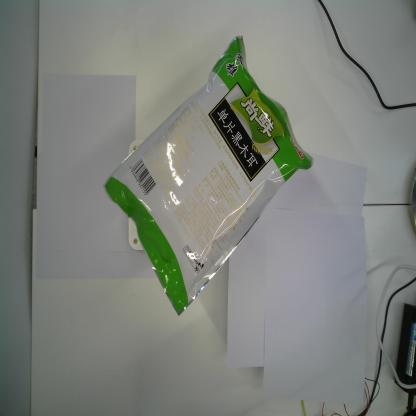Dried Food: (102, 34, 315, 318)
